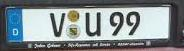9: (125, 11, 142, 36), (109, 11, 125, 37)
U: (84, 11, 101, 37)
V: (48, 12, 65, 38)
